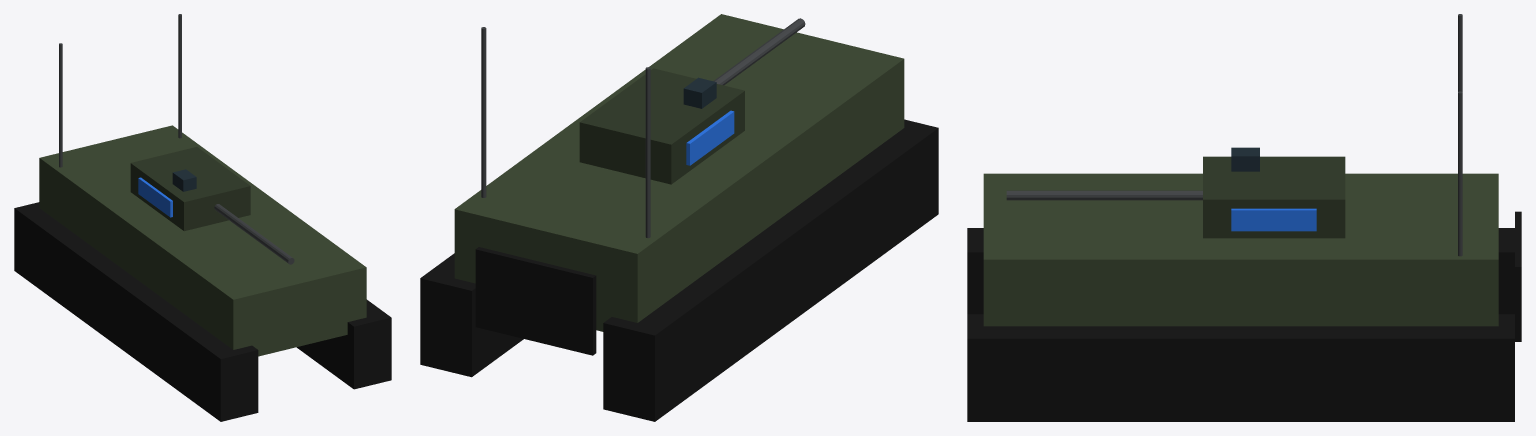
File: ru_ifv.glb
3 renders of one model, left to right at view 1: azimuth 30°, elevation 25°; view 2: azimuth 150°, elevation 25°; view 3: azimuth 270°, elevation 25°, orthographic. The views are drawn at different scales.
Visible parts, largest first — view 1: hull, track_l, turret, track_r, barrel, team_panel_l, whip_0, whip_1, sight; view 2: hull, track_l, turret, rear_door, track_r, team_panel_l, barrel, whip_0, whip_1, sight; view 3: hull, track_r, turret, track_l, barrel, team_panel_r, rear_door, whip_1, sight.
Part boxes in pixels (left/top/right/bottom): hull: left=39, top=125, right=366, bottom=356; track_l: left=14, top=202, right=258, bottom=421; turret: left=130, top=147, right=250, bottom=231; track_r: left=297, top=299, right=391, bottom=389; barrel: left=214, top=204, right=294, bottom=264; team_panel_l: left=138, top=177, right=172, bottom=217; whip_0: left=59, top=43, right=62, bottom=167; whip_1: left=178, top=14, right=181, bottom=138; sight: left=172, top=169, right=196, bottom=191; hull: left=454, top=14, right=904, bottom=331; track_l: left=603, top=119, right=938, bottom=421; turret: left=579, top=68, right=744, bottom=184; rear_door: left=475, top=247, right=596, bottom=355; track_r: left=420, top=253, right=523, bottom=377; team_panel_l: left=686, top=110, right=734, bottom=165; barrel: left=713, top=18, right=805, bottom=85; whip_0: left=645, top=67, right=650, bottom=238; whip_1: left=481, top=27, right=486, bottom=197; sight: left=683, top=77, right=716, bottom=108; hull: left=983, top=173, right=1498, bottom=326; track_r: left=967, top=314, right=1514, bottom=421; turret: left=1203, top=156, right=1345, bottom=238; track_l: left=967, top=228, right=1514, bottom=314; barrel: left=1006, top=190, right=1202, bottom=200; team_panel_r: left=1231, top=208, right=1316, bottom=231; rear_door: left=1515, top=211, right=1521, bottom=341; whip_1: left=1458, top=91, right=1462, bottom=256; sight: left=1231, top=147, right=1259, bottom=171.
Size of the model in its own units: 3.2 by 4.22 by 6.78.
